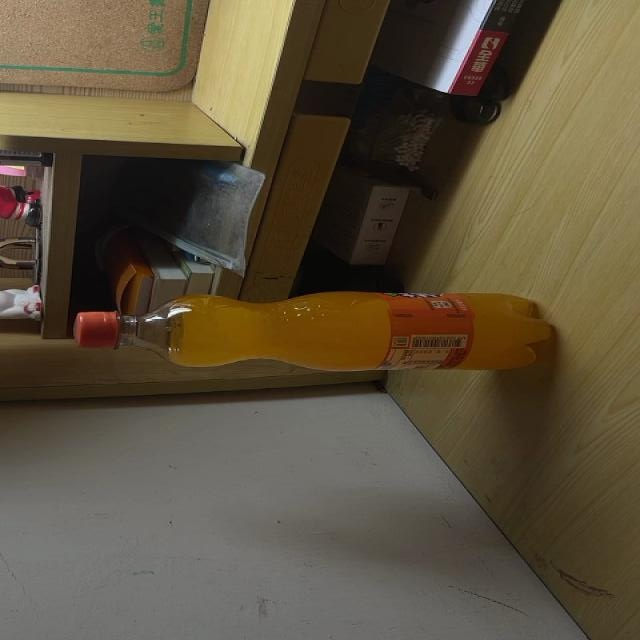Fanta: (76, 292, 552, 372)
